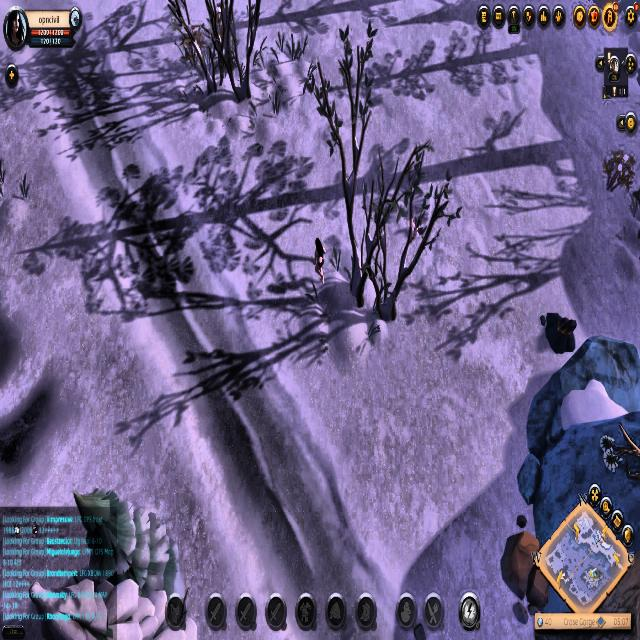copper_ore: (538, 296, 578, 366)
cotton: (600, 142, 638, 201)
limestone: (496, 511, 548, 612)
